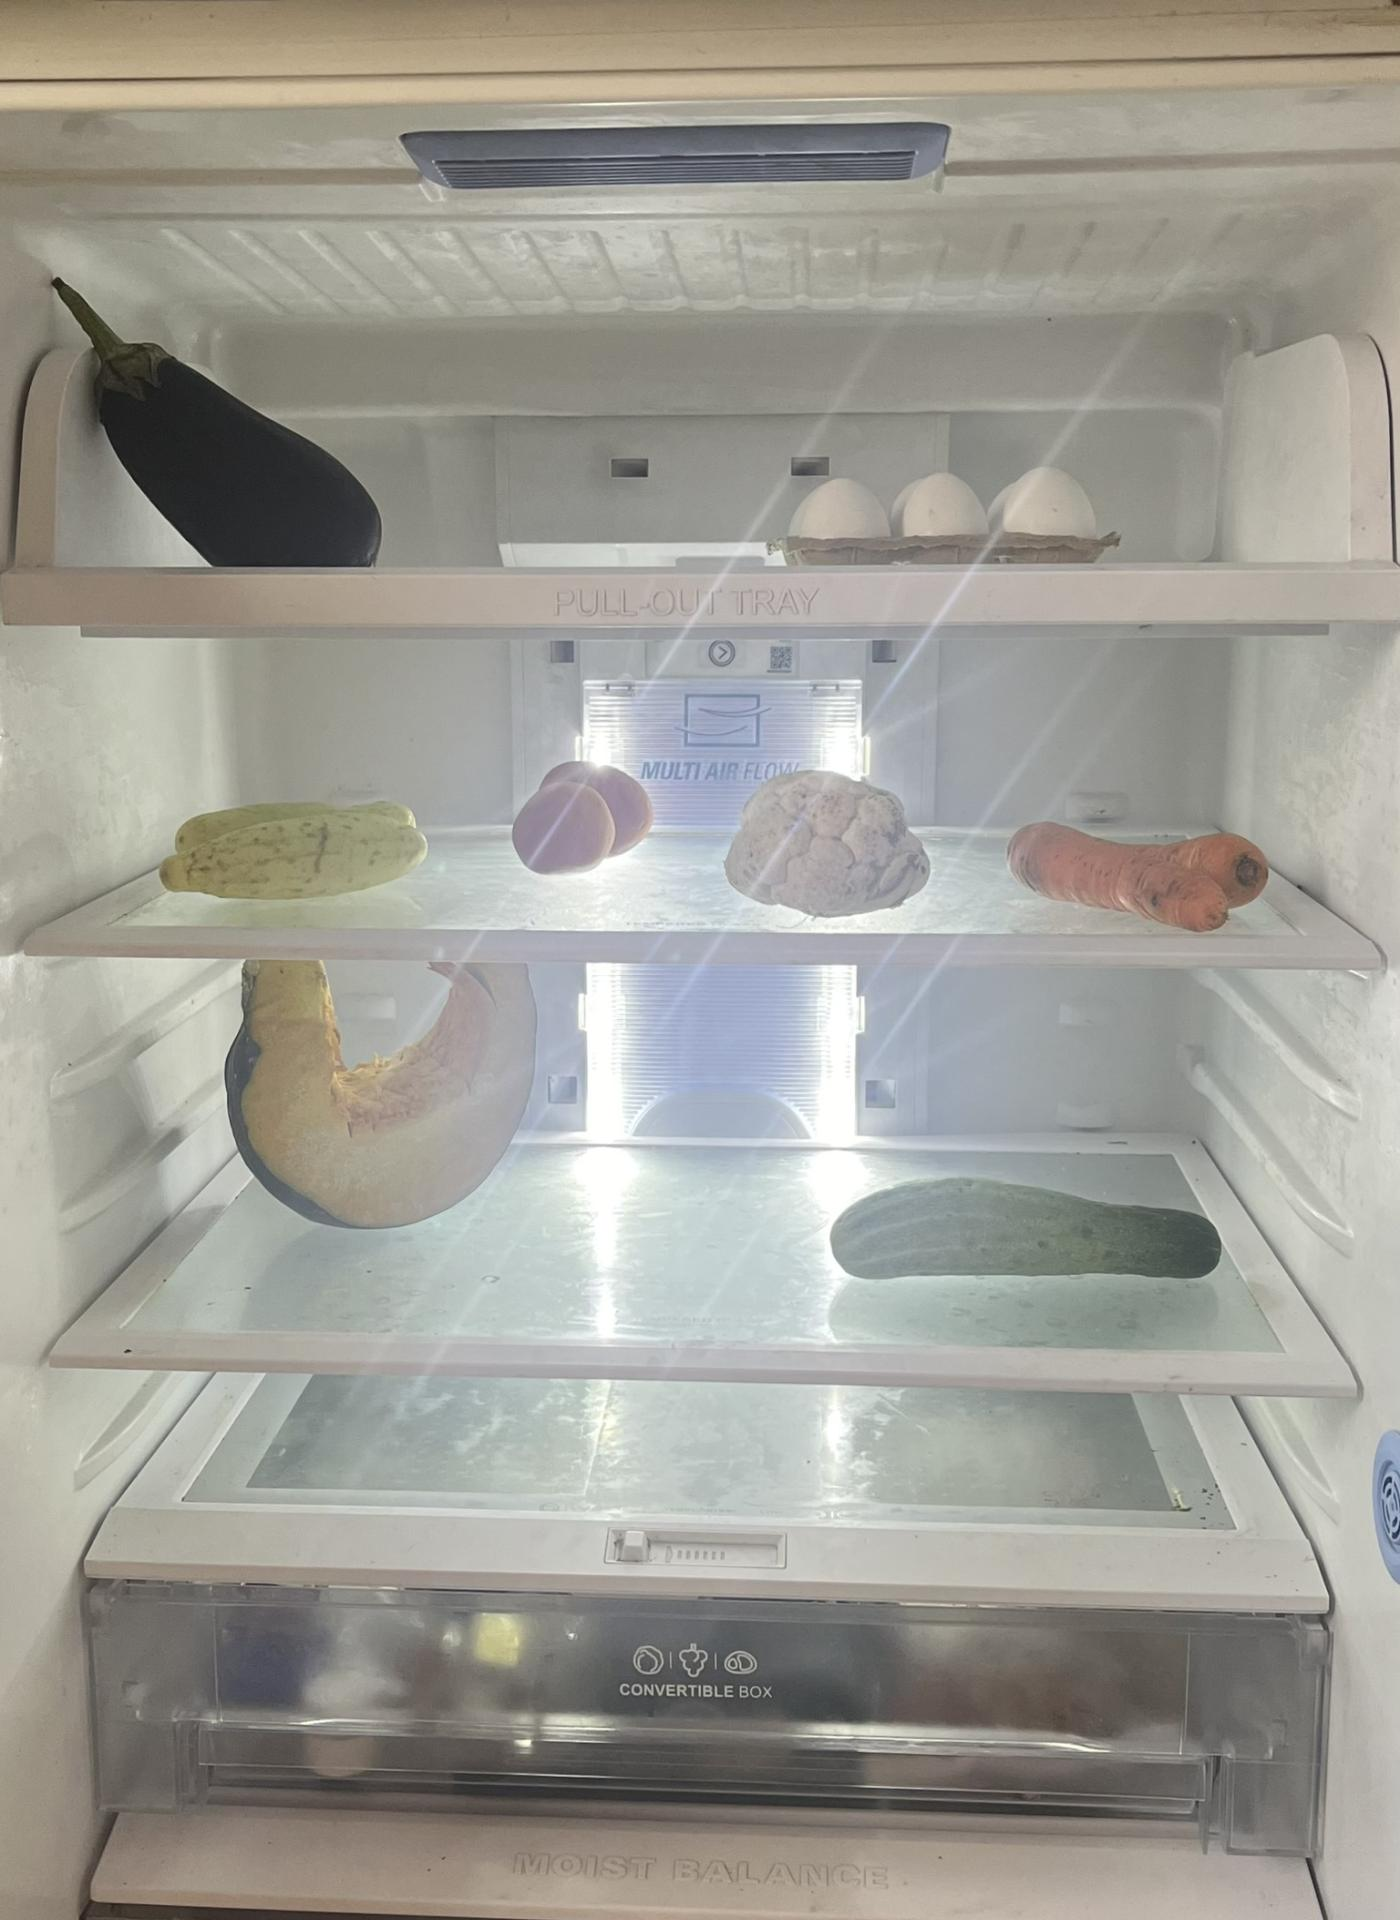brinjal: (48, 270, 394, 575)
carrots: (1011, 818, 1275, 926)
cauliflower: (726, 775, 927, 915)
cucumber: (829, 1179, 1246, 1289), (160, 799, 429, 899)
egg: (780, 459, 1099, 549)
pumpkin: (227, 961, 537, 1231)
tomato: (511, 756, 659, 874)
